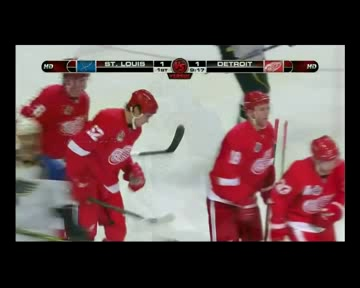normal: (196, 89, 343, 237)
